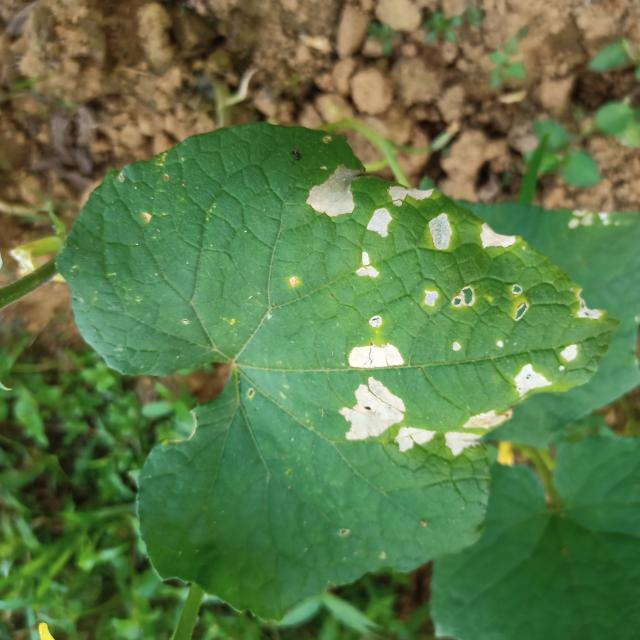disease_cucumber: (346, 345, 406, 435), (367, 184, 436, 235), (304, 164, 358, 222), (517, 347, 577, 397), (447, 411, 499, 455), (422, 283, 480, 312), (476, 221, 519, 254), (426, 212, 453, 252), (397, 426, 432, 450), (353, 249, 378, 282)
